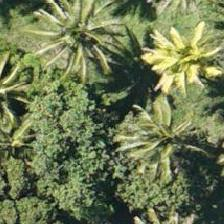Kelapa_Sawit: (121, 99, 211, 189), (134, 13, 224, 103), (41, 0, 131, 76)
